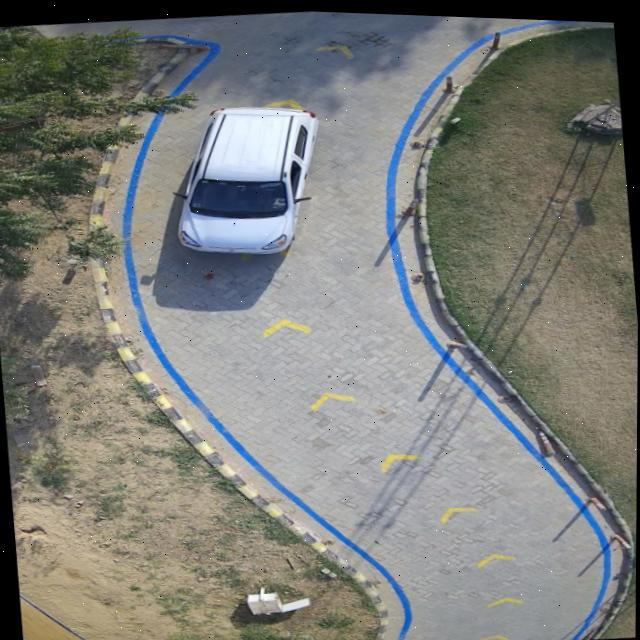car: (177, 105, 317, 252)
